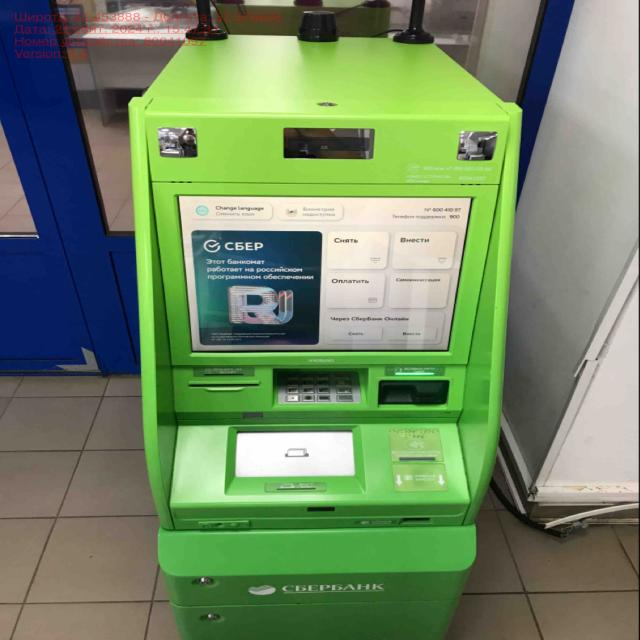bank: (128, 31, 523, 640)
